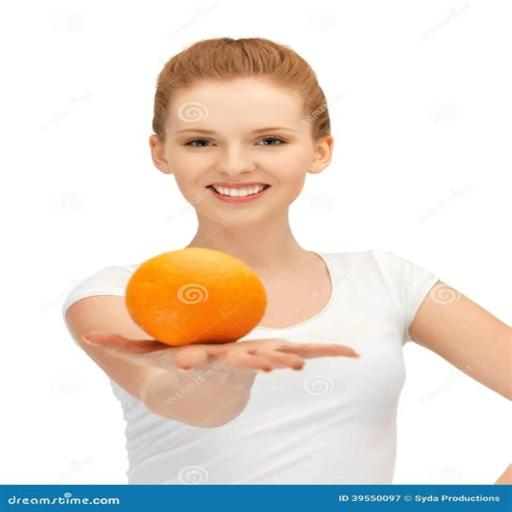orange: (126, 248, 266, 346)
